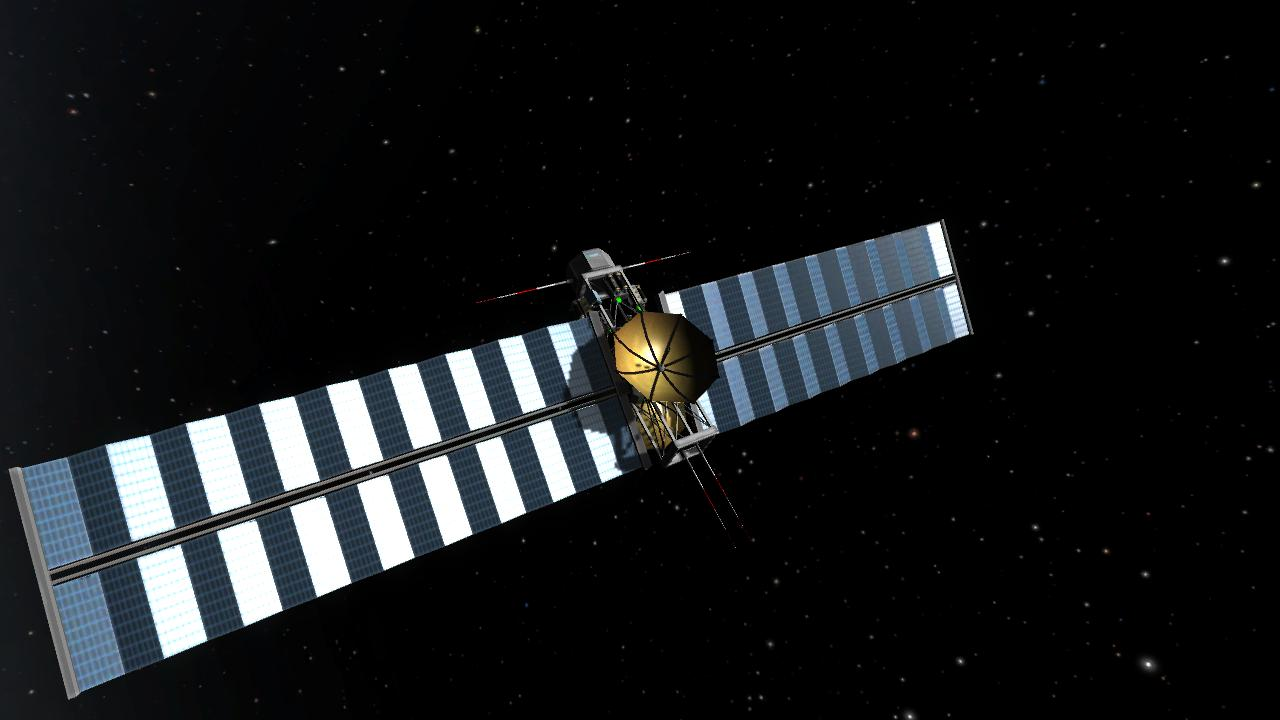antenna: (611, 308, 722, 404), (693, 442, 758, 547), (680, 448, 739, 551), (468, 277, 574, 309), (618, 247, 694, 272)
solar: (6, 309, 655, 701), (656, 217, 978, 441)
